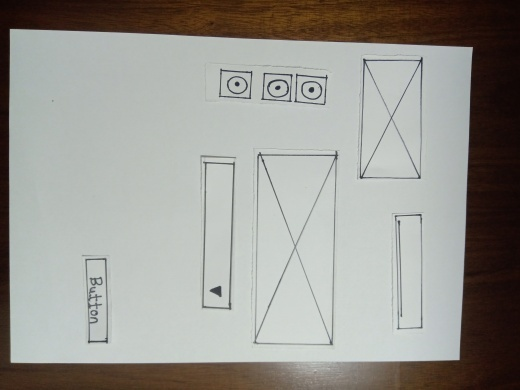button: (83, 258, 109, 342)
dropdown: (205, 165, 230, 311)
img: (261, 154, 332, 344), (366, 55, 421, 177)
radio: (297, 75, 326, 106), (262, 74, 294, 102), (218, 72, 250, 95)
text: (393, 216, 426, 329)
